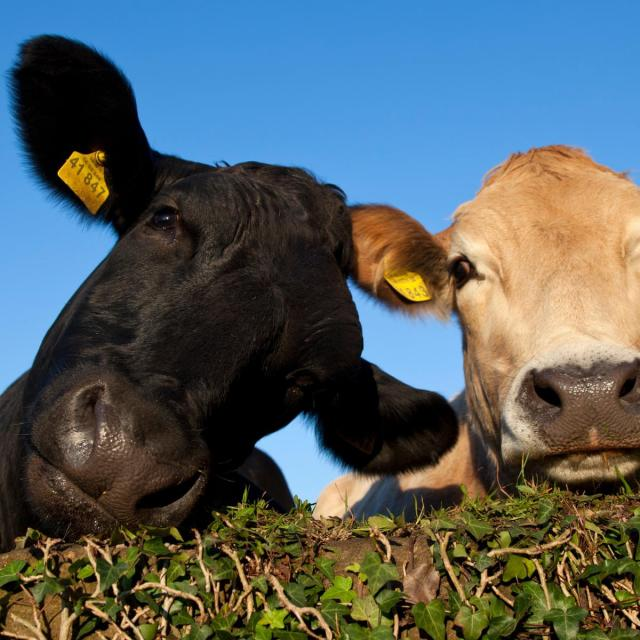cow: (51, 111, 337, 551), (423, 142, 640, 519)
